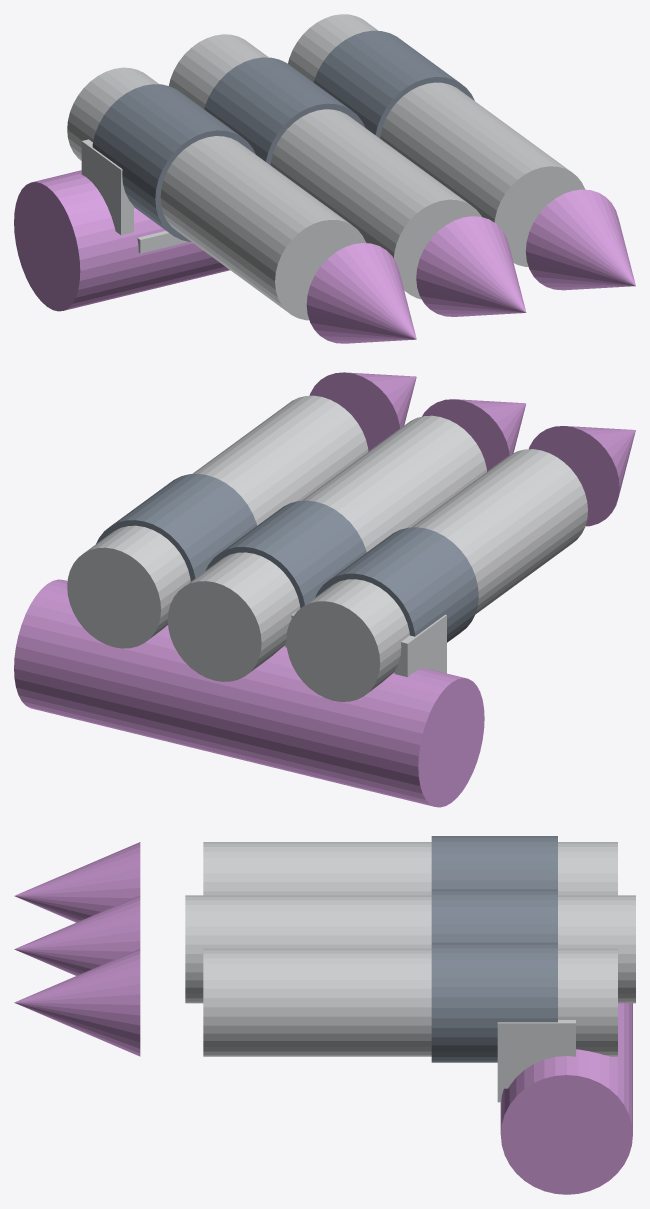
The model's file is pls-3.glb.
The picture shows the model from 3 angles, top to bottom: view 1: azimuth 30°, elevation 25°; view 2: azimuth 150°, elevation 25°; view 3: azimuth 270°, elevation 25°; orthographic projection.
Parts seen in each view (by area): view 1: part000, part007, part014, part021, part001, part016, part009, part002, part008, part015, part003, part004; view 2: part021, part000, part007, part014, part001, part008, part015, part002, part016, part009, part003; view 3: part014, part007, part021, part000, part015, part016, part008, part001, part002, part009, part019.
Part boxes in pixels (box(x1,y1,x2,y2)): part000: box(67, 67, 365, 320); part007: box(169, 34, 481, 299); part014: box(288, 14, 585, 266); part021: box(14, 170, 229, 311); part001: box(92, 84, 255, 241); part016: box(525, 189, 635, 290); part009: box(416, 216, 526, 316); part002: box(306, 243, 416, 343); part008: box(204, 57, 365, 165); part015: box(313, 30, 474, 138); part003: box(81, 139, 133, 234); part004: box(137, 231, 188, 253); part021: box(14, 579, 484, 807); part000: box(286, 449, 587, 701); part007: box(167, 415, 486, 681); part014: box(67, 395, 368, 648); part001: box(315, 527, 478, 642); part008: box(205, 500, 366, 608); part015: box(96, 473, 256, 581); part002: box(529, 426, 635, 526); part016: box(309, 372, 416, 451); part009: box(422, 399, 526, 471); part003: box(394, 614, 446, 677); part014: box(203, 948, 617, 1056); part007: box(185, 895, 635, 1003); part021: box(500, 1003, 632, 1194); part000: box(203, 842, 617, 895); part015: box(431, 942, 557, 1062); part016: box(14, 949, 140, 1056); part008: box(431, 889, 557, 942); part001: box(431, 836, 557, 889); part002: box(14, 842, 140, 922); part009: box(14, 895, 140, 975); part019: box(497, 1020, 575, 1088).
Size of the model in its own units: 1.55 by 0.74 by 2.07.
